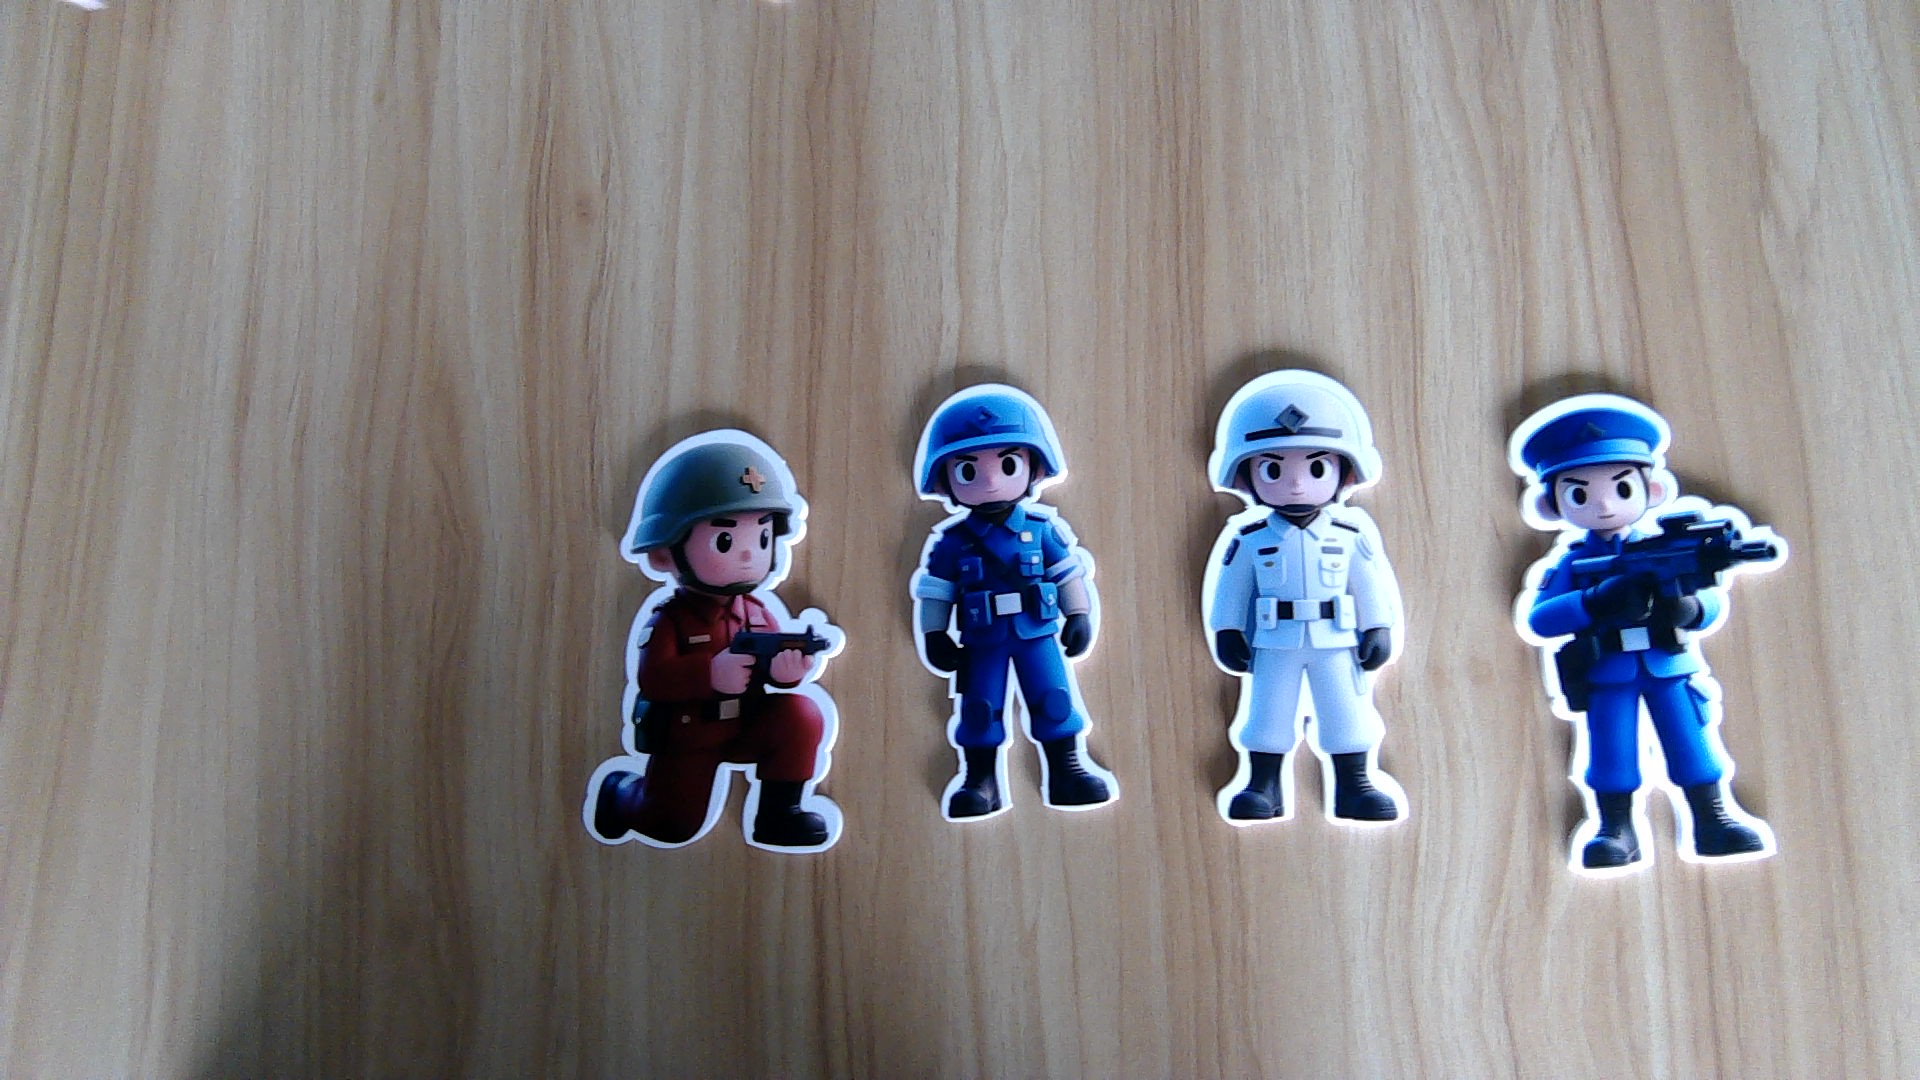人质: (1189, 501, 1418, 833)
敌人1: (572, 588, 857, 861)
敌人2: (1505, 520, 1799, 873), (902, 506, 1135, 828)
